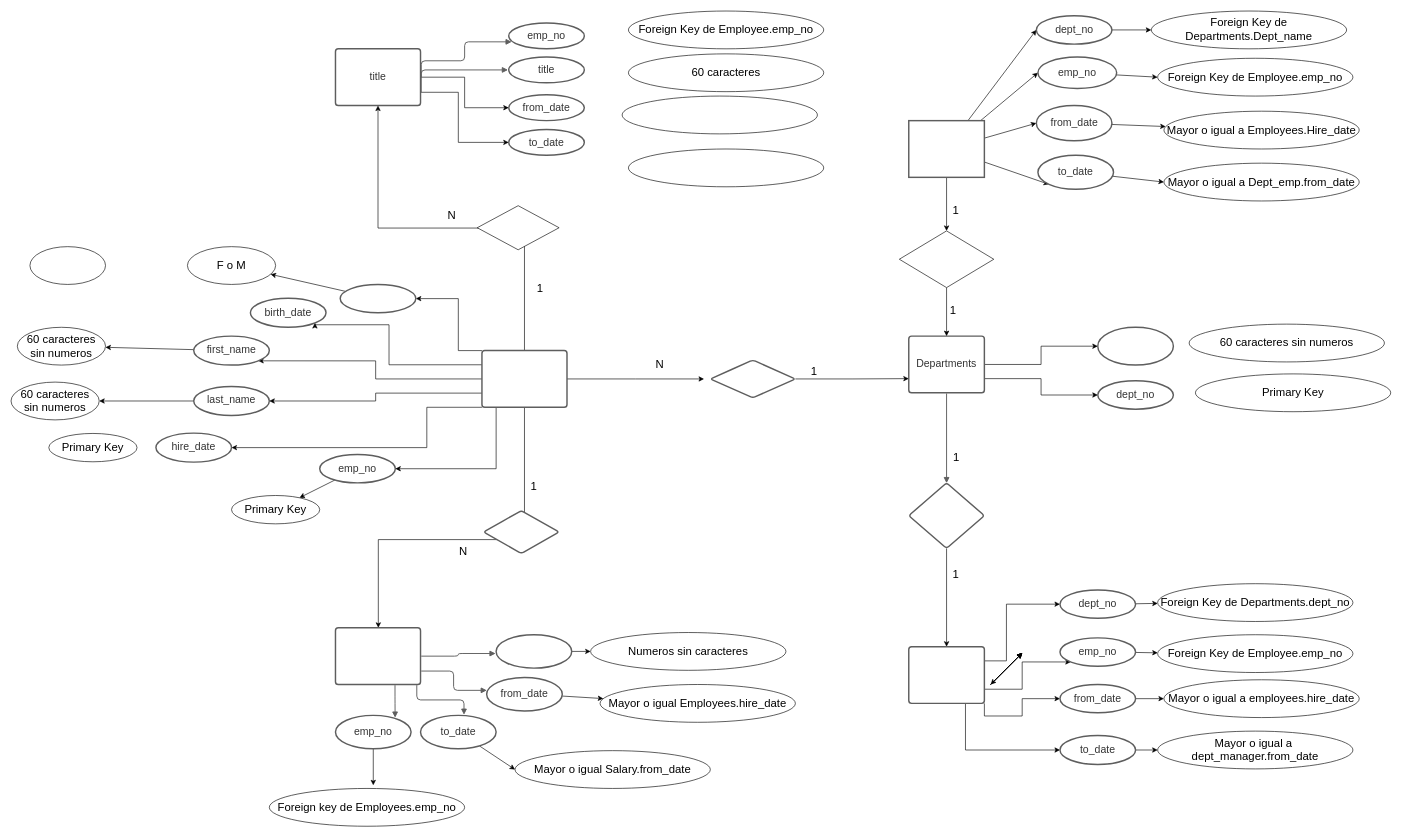
Image size: 1402x837. Some labels were removed from this diagram. Here are the shapes that lost their labels. From the top down, the box of each, then its label:
(908, 120, 985, 178): Dept_emp
(477, 205, 559, 250): have a
(899, 230, 994, 288): are asigned to
(339, 283, 416, 313): gender
(1097, 326, 1174, 366): Dept_name
(481, 350, 567, 408): Employees
(709, 359, 796, 398): work in
(483, 510, 560, 554): need a
(908, 482, 985, 549): are managed by
(334, 627, 421, 685): salary
(495, 634, 572, 669): amount
(908, 646, 985, 704): Dept_Manager
